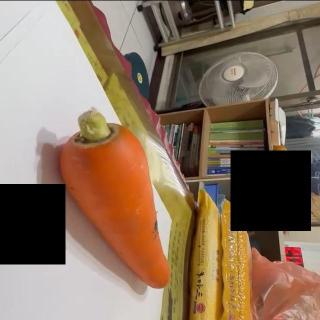carrot: (58, 107, 172, 289)
